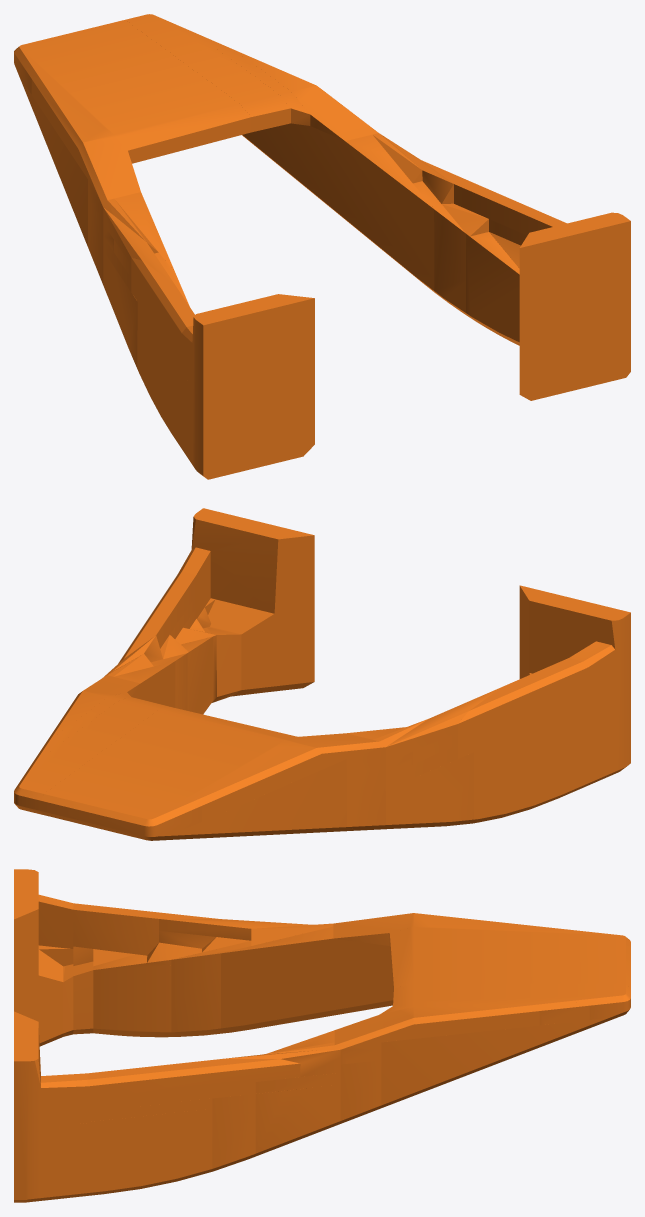
3 views of the same model, one above another, from view 1: azimuth 30°, elevation 25°; view 2: azimuth 150°, elevation 25°; view 3: azimuth 270°, elevation 25° (orthographic). The views are drawn at different scales.
Parts seen in each view (by area): view 1: gripper_frame; view 2: gripper_frame; view 3: gripper_frame.
Part boxes in pixels (<box>): gripper_frame: <box>14,14,630,479</box>; gripper_frame: <box>14,508,630,840</box>; gripper_frame: <box>14,869,630,1202</box>.
Size of the model in its own units: 0.046 by 0.016 by 0.0625.
